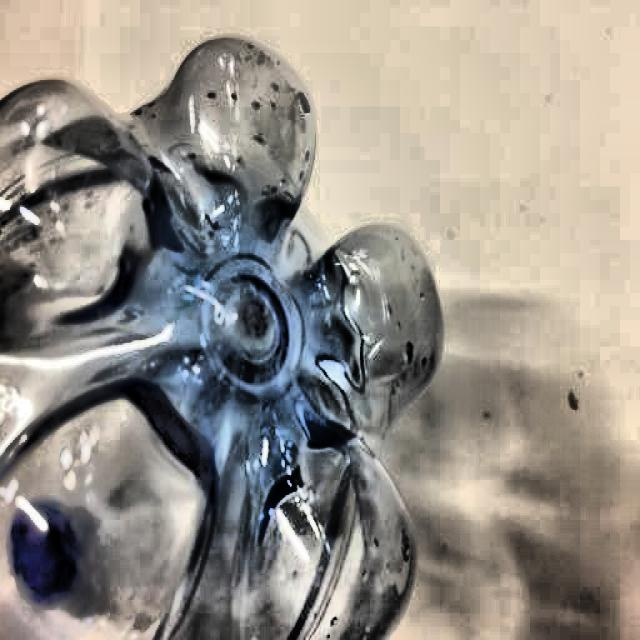plastic: (1, 40, 436, 640)
